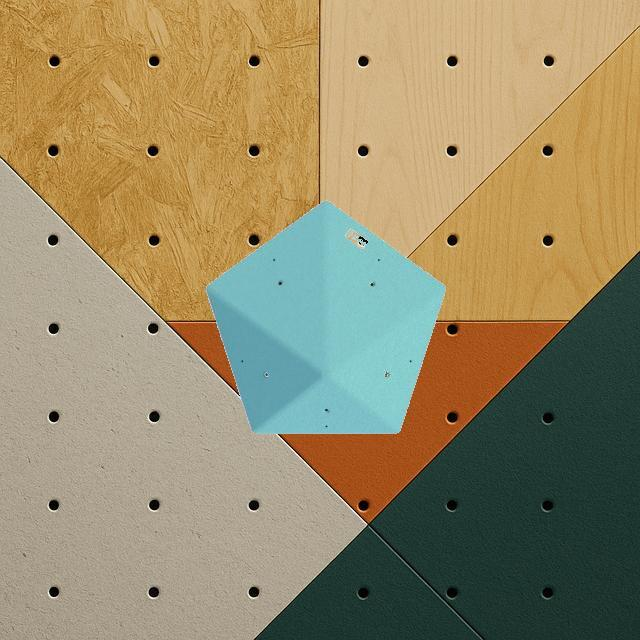Volume: (203, 198, 447, 436)
